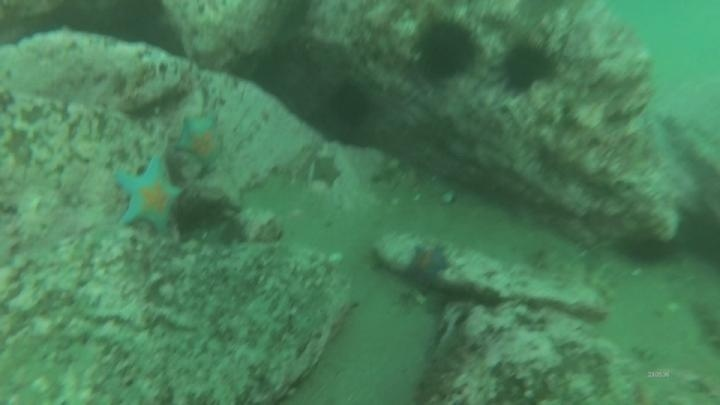echinus: (411, 16, 483, 84), (495, 37, 560, 95), (674, 203, 720, 271), (327, 79, 374, 128), (616, 229, 674, 268)
starfish: (112, 154, 185, 236), (173, 114, 227, 175), (405, 242, 452, 284), (307, 153, 344, 191)
